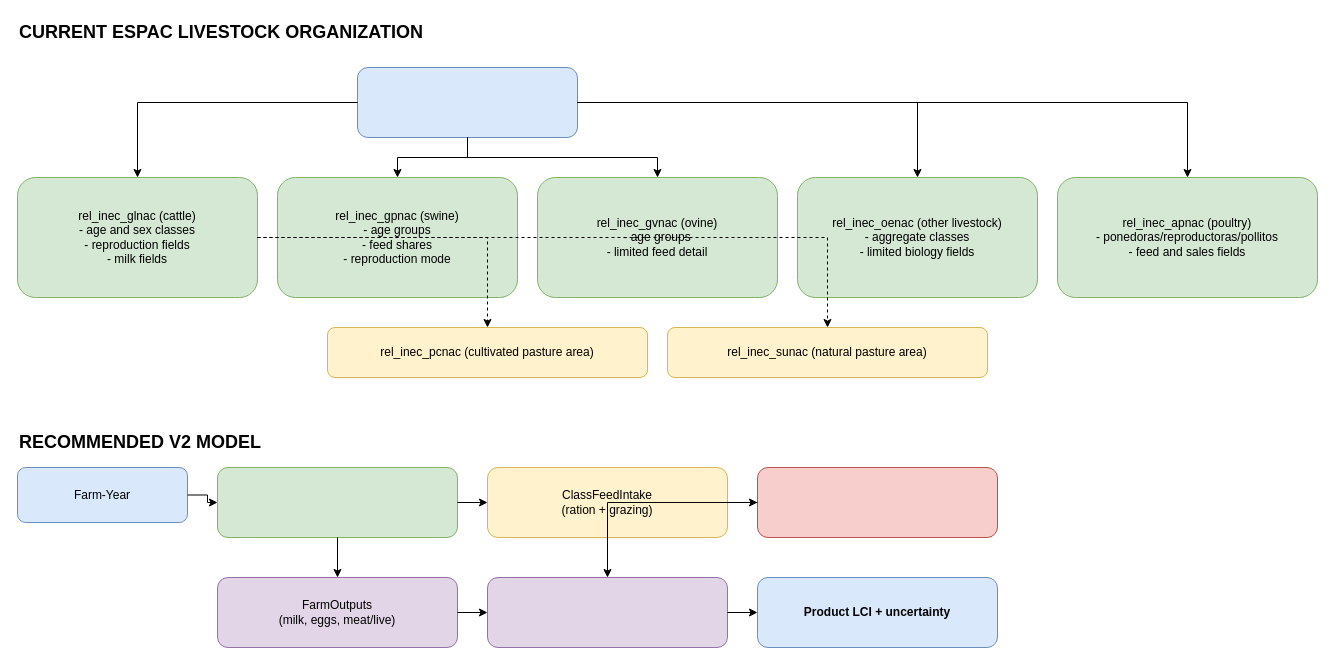
Image size: 1335x665. Some labels were removed from this diagram. The shapes that lost their labels are listed below. From the top down, each one's centre as x and y in pixels, then its label:
pixel 467 102: Farm key identificador
pixel 337 502: AnimalClassStock (all classes)
pixel 877 502: ClassDirectEmissions (enteric + manure)
pixel 607 612: AllocationToProducts
